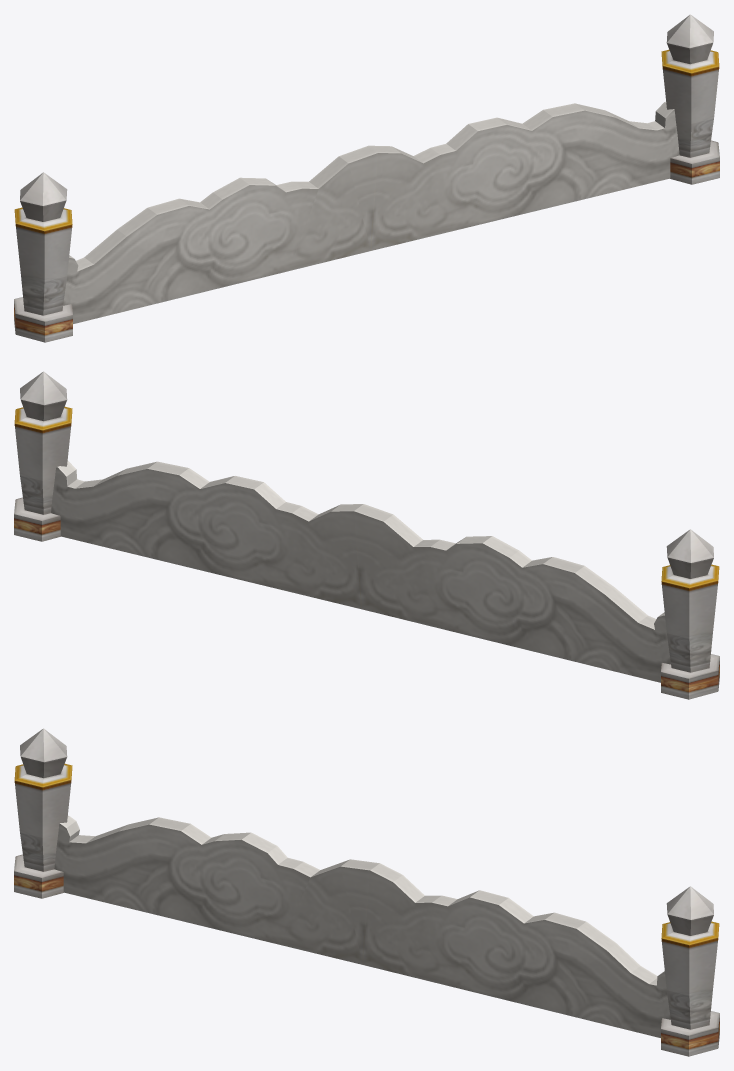
Rendered from W3_HD_GongHuiBoss_hulan_03_02_D.FBX.
3 views of the same model, one above another, from view 1: azimuth 30°, elevation 25°; view 2: azimuth 150°, elevation 25°; view 3: azimuth 330°, elevation 25° (orthographic).
Visible parts, largest first — view 1: W3_HD_GongHuiBoss_hulan_03_02_D; view 2: W3_HD_GongHuiBoss_hulan_03_02_D; view 3: W3_HD_GongHuiBoss_hulan_03_02_D.
Part boxes in pixels (<box>): W3_HD_GongHuiBoss_hulan_03_02_D: <box>14,14,719,342</box>; W3_HD_GongHuiBoss_hulan_03_02_D: <box>14,371,719,699</box>; W3_HD_GongHuiBoss_hulan_03_02_D: <box>14,728,719,1056</box>.
Bounding box in the file's own units: 7.68 × 1.63 × 0.589.
